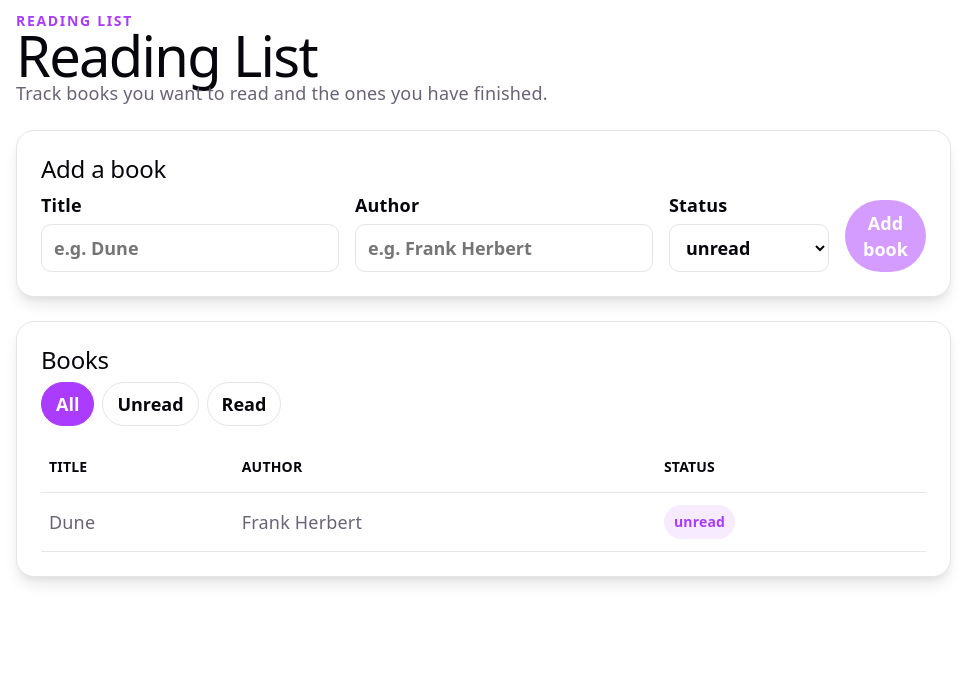
Test: keeps the add-book form values and shows an error after a failed add
The width and height of the screenshot is (968, 679).
Expected: the text "Dune" is shown, [41, 493, 234, 552]
Step 1. Type "Kindred" into the field labelled "Title" → point(190, 248), box [41, 224, 339, 272]
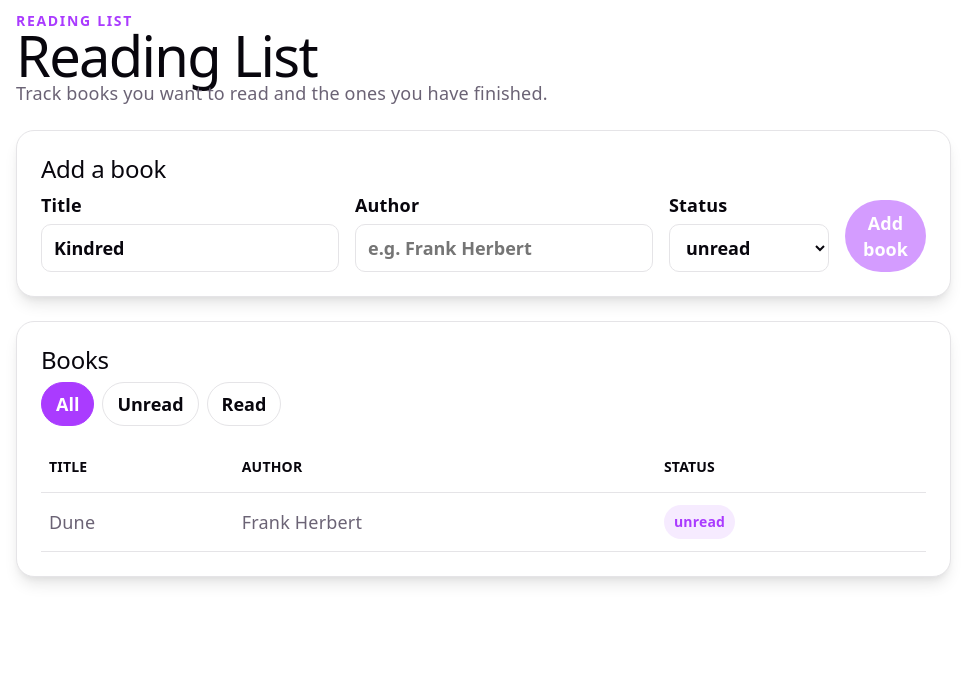
Step 2. Type "Octavia E. Butler" into the field labelled "Author" → point(504, 248), box [355, 224, 653, 272]
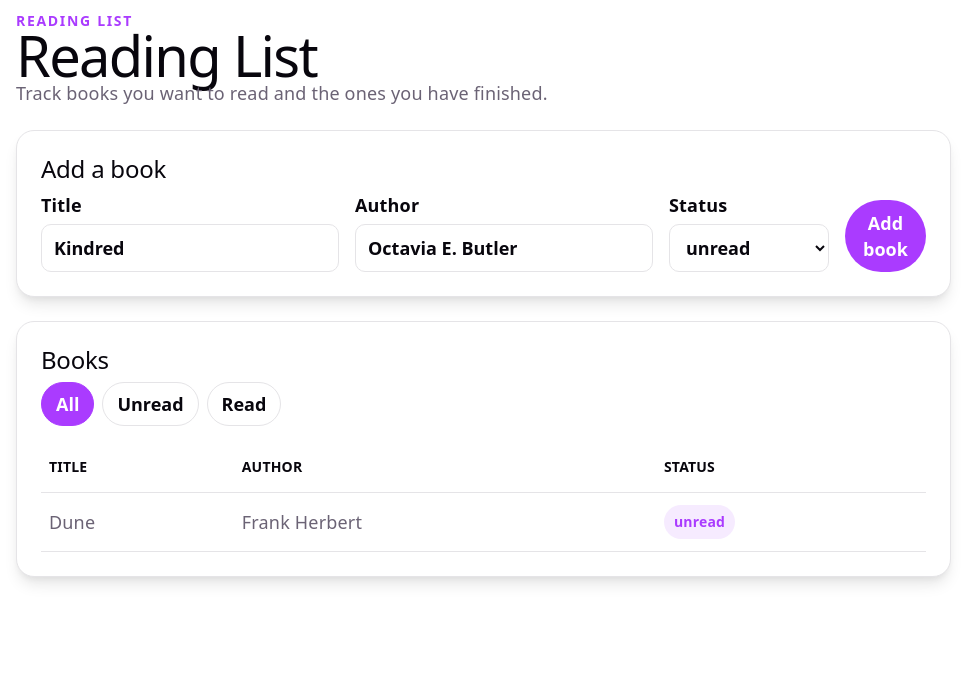
Step 3. Select "read" in the dropdown labelled "Status" → point(749, 248), box [669, 224, 829, 272]
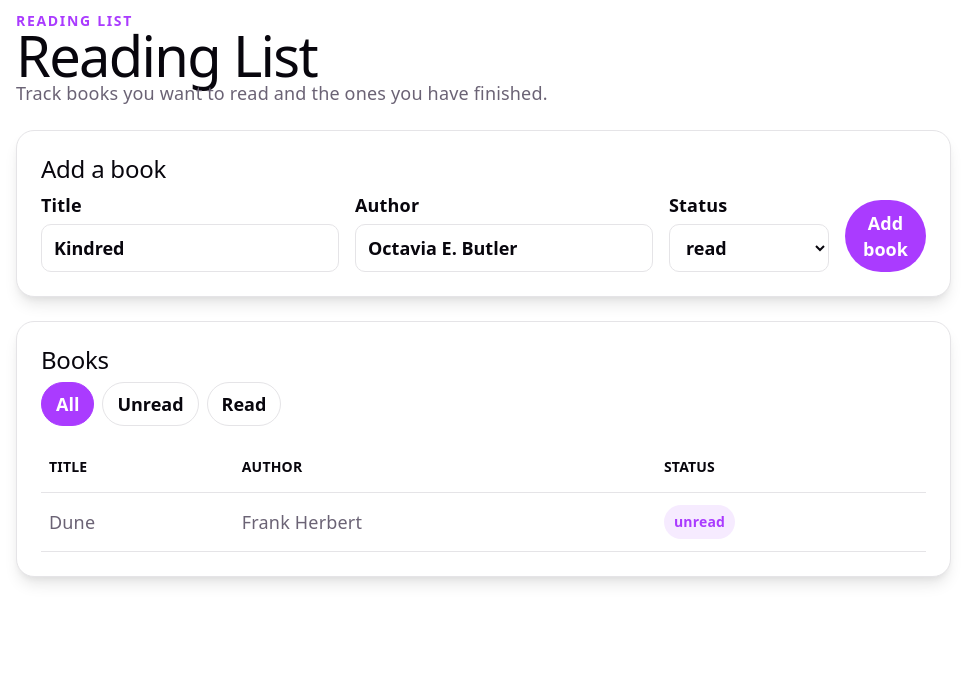
Step 4. Click the button "Add book" → point(885, 236), box [845, 200, 926, 272]
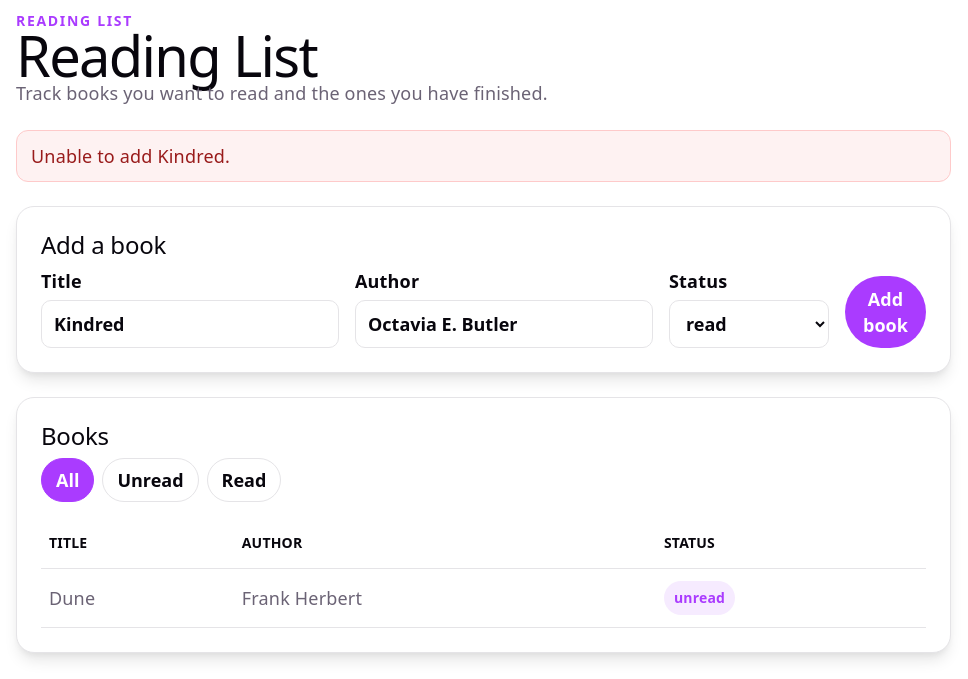
Expected: the button "Add book" is enabled, [845, 276, 926, 348]
Expected: the text "Unable to add Kindred." is shown, [16, 130, 951, 182]
